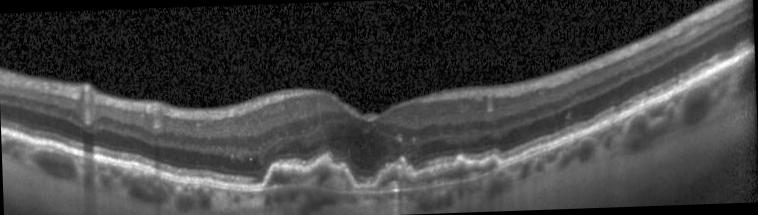subretinal_hyperreflective_material: (374, 156, 500, 190), (266, 156, 354, 191)
